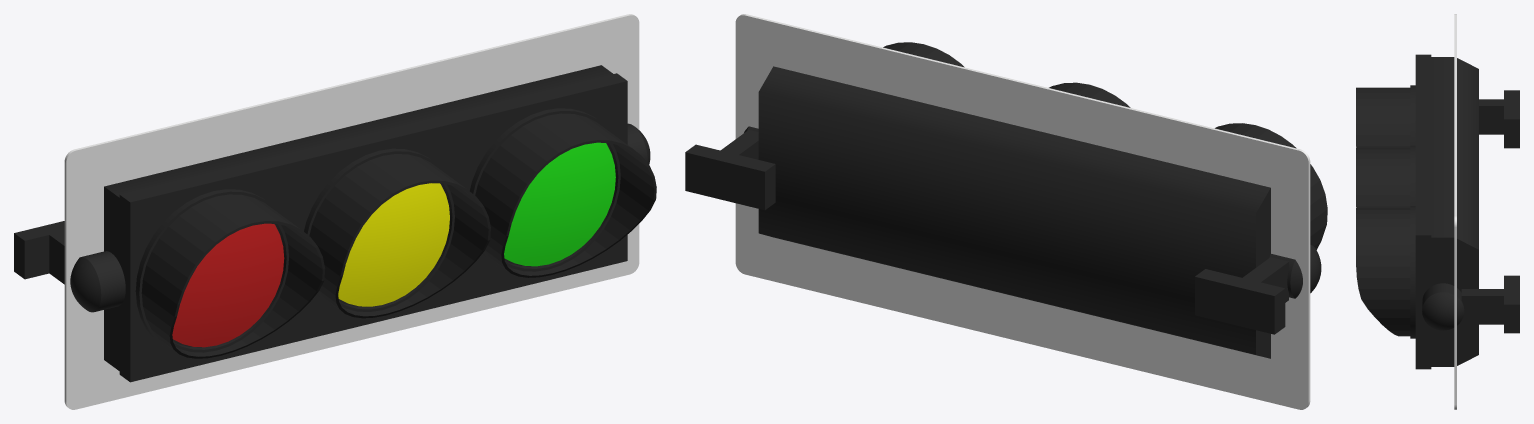
File: model_trafficLight (2).FBX
The picture shows the model from 3 angles, left to right: view 1: azimuth 30°, elevation 25°; view 2: azimuth 150°, elevation 25°; view 3: azimuth 270°, elevation 25°; orthographic projection. The views are drawn at different scales.
Visible parts, largest first — view 1: Svetofor, Ekran, Object001, Object003, Object002, 3, 2, 1; view 2: Svetofor, Ekran, Object001, Object002, Object003; view 3: Svetofor, Object003, Object001, Object002, Ekran.
Part boxes in pixels (x1,y1,x2,y2): Svetofor: (14,65,650,382); Ekran: (64,14,639,409); Object001: (141,194,325,358); Object003: (475,113,656,277); Object002: (309,154,490,318); 3: (172,223,284,347); 2: (338,183,449,306); 1: (504,142,615,266); Svetofor: (685,66,1321,358); Ekran: (735,14,1310,409); Object001: (1215,123,1327,249); Object002: (1049,82,1130,107); Object003: (883,42,964,67); Svetofor: (1410,54,1519,369); Object003: (1356,208,1410,336); Object001: (1356,87,1410,147); Object002: (1356,147,1410,207); Ekran: (1454,14,1456,409).
Bounding box in the file's own units: 125 × 52.4 × 40.29.
